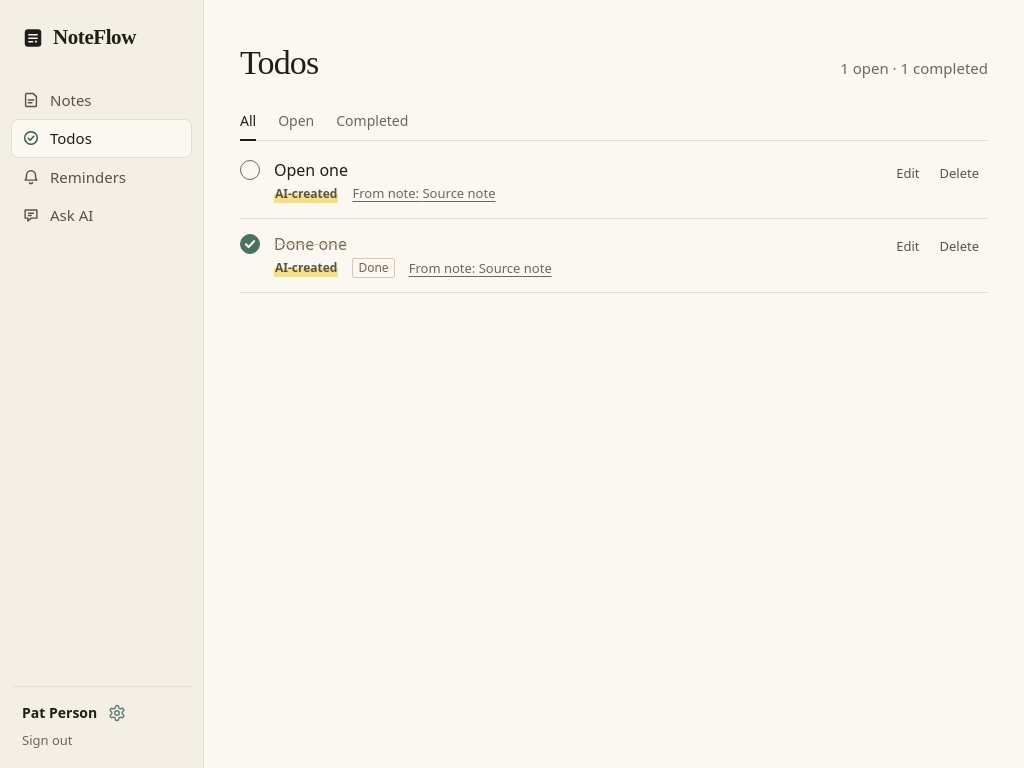
Test case: completion › filters by open and completed
Expected: the text "Open one" is shown, [274,159,348,181]
Click the button "Open". click: (296, 122)
box: [278,102,314,141]
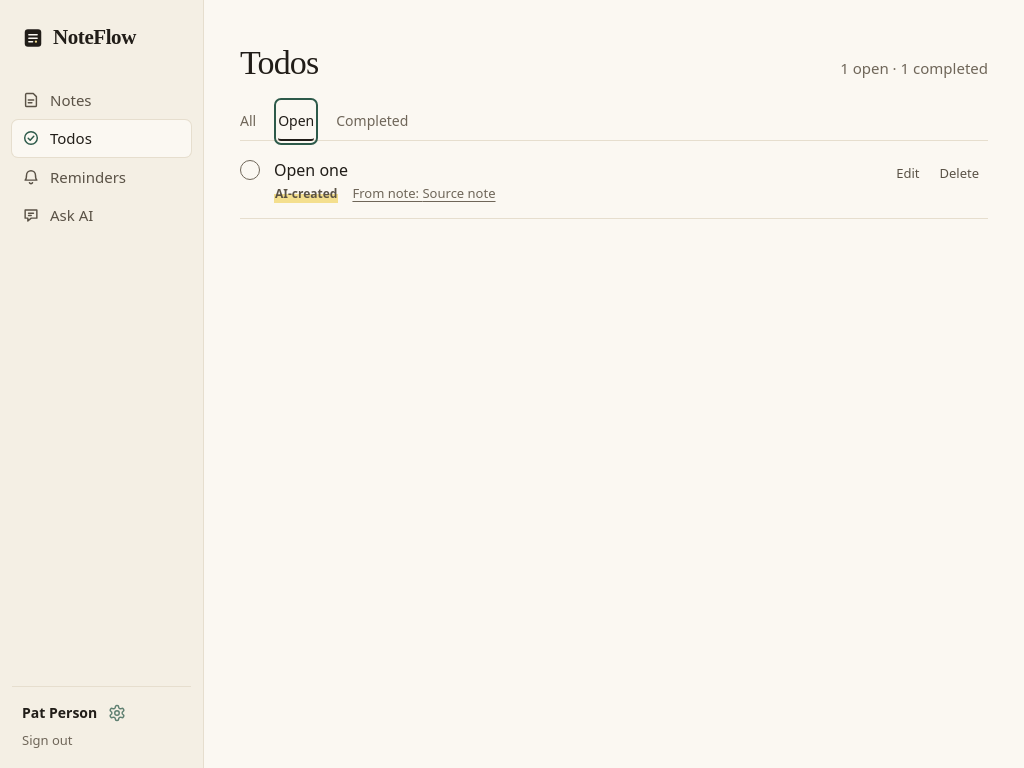
Expected: the text "Open one" is shown, [274,159,348,181]
Expected: the text "Done one" is gone
Click the button "Completed". click: (372, 122)
box: [336,102,408,141]
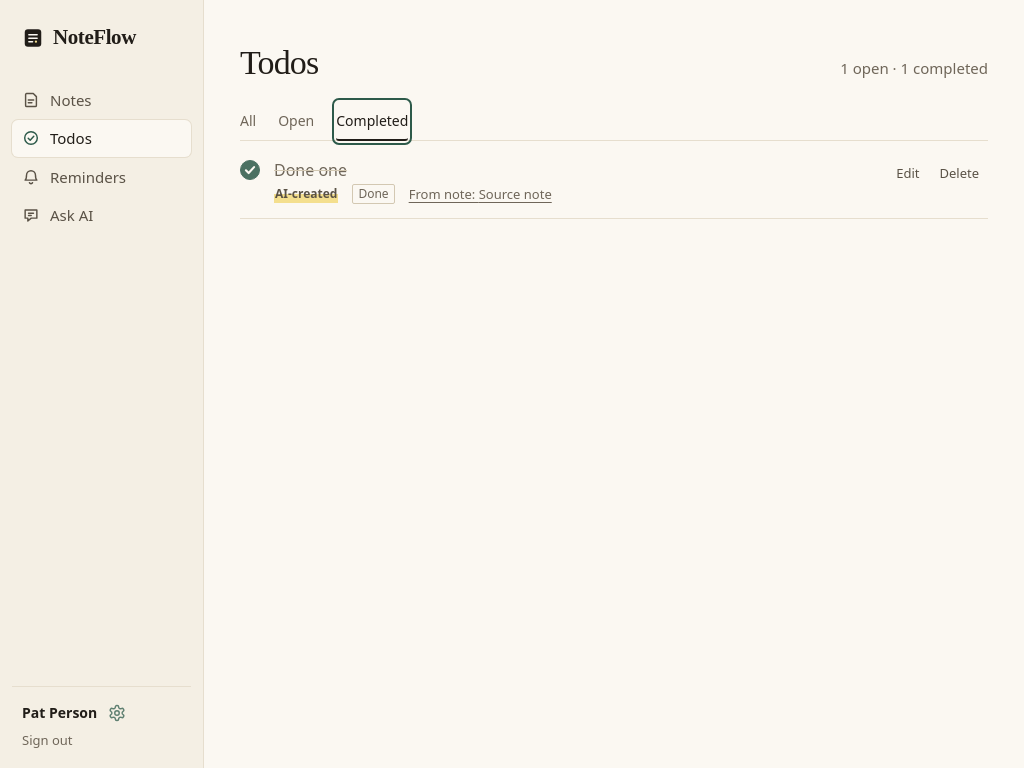
Expected: the text "Open one" is gone
Expected: the text "Done one" is shown, [274,159,347,181]
Click the button "All". click: (248, 122)
box: [240,102,256,141]
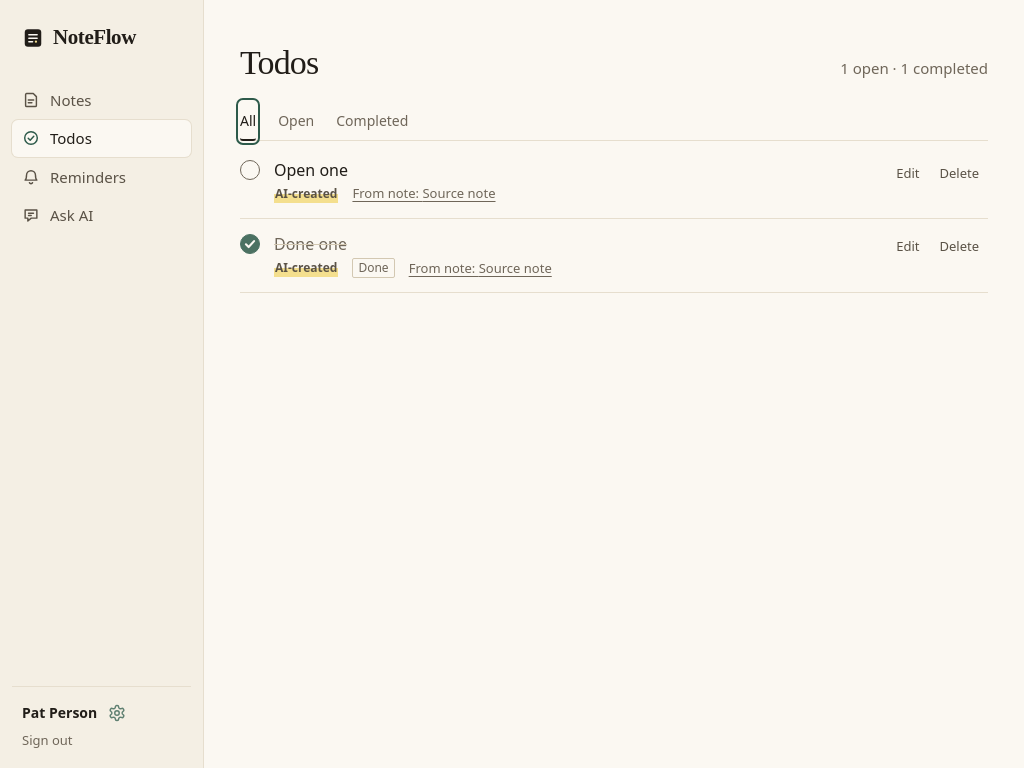
Expected: the text "Open one" is shown, [274,159,348,181]
